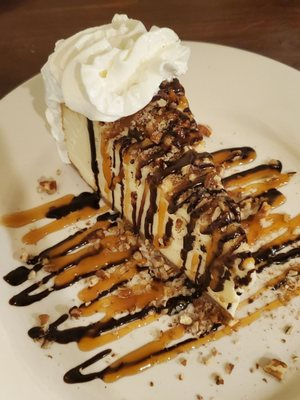soup: (4, 17, 300, 395)
